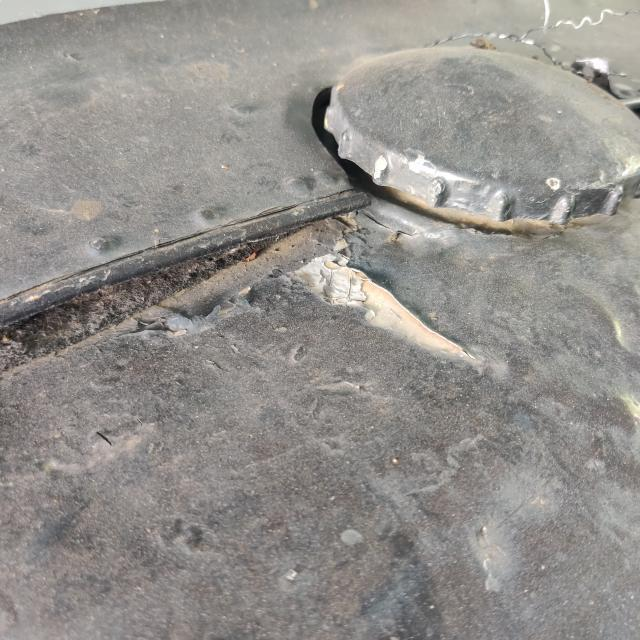Paint-off: (293, 256, 506, 383)
